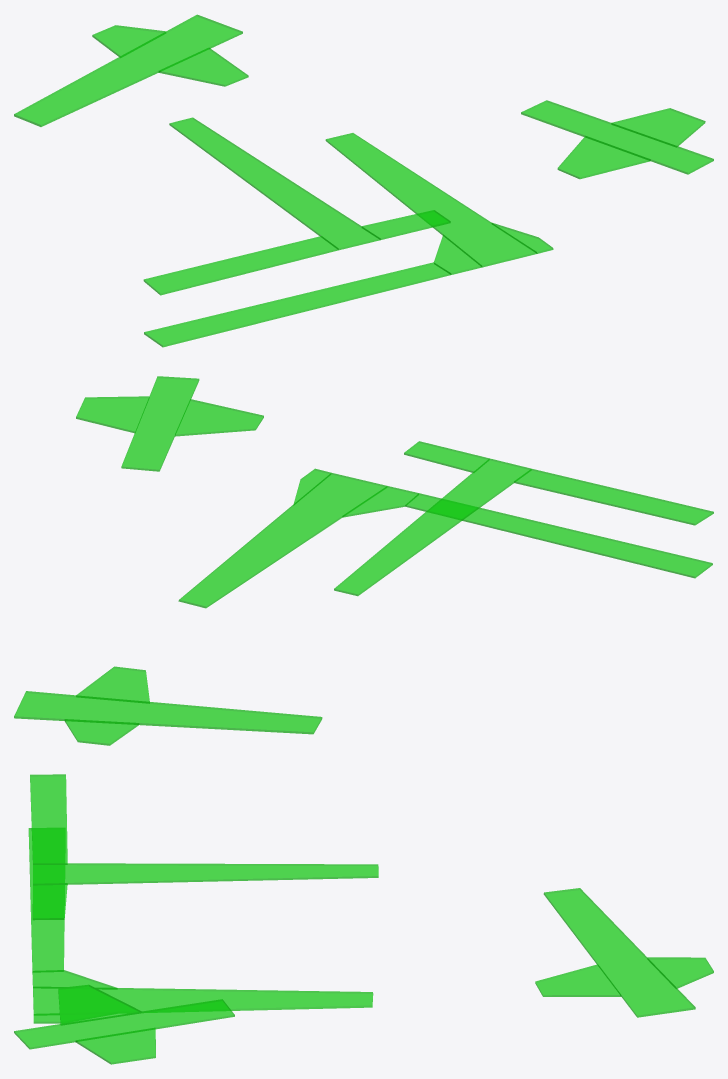
The model's file is parche_13_14v2.fbx.
The picture shows the model from 3 angles, top to bottom: view 1: azimuth 30°, elevation 25°; view 2: azimuth 150°, elevation 25°; view 3: azimuth 270°, elevation 25°; orthographic projection.
Parts seen in each view (by area): view 1: Colliders_2409, Colliders_1068, Colliders_2543, Colliders_897, Colliders_129, Colliders_890, Colliders_59, Colliders_2023, Colliders_970, Colliders_2279, Colliders_1211, Colliders_3417 (+1 smaller); view 2: Colliders_2409, Colliders_1068, Colliders_2543, Colliders_897, Colliders_129, Colliders_890, Colliders_59, Colliders_2023, Colliders_970, Colliders_1211, Colliders_2279, Colliders_3417; view 3: Colliders_2409, Colliders_1068, Colliders_2543, Colliders_897, Colliders_129, Colliders_890, Colliders_59, Colliders_2023, Colliders_970, Colliders_1211, Colliders_2279, Colliders_3417 (+1 smaller).
Part boxes in pixels (box(x1,y1,x2,y2)): Colliders_2409: box(325, 133, 537, 267); Colliders_1068: box(14, 14, 242, 126); Colliders_2543: box(169, 117, 380, 250); Colliders_897: box(144, 262, 451, 347); Colliders_129: box(521, 100, 713, 174); Colliders_890: box(143, 236, 338, 295); Colliders_59: box(557, 135, 650, 179); Colliders_2023: box(611, 108, 705, 147); Colliders_970: box(158, 47, 248, 86); Colliders_2279: box(362, 210, 450, 239); Colliders_1211: box(92, 25, 165, 57); Colliders_3417: box(434, 234, 482, 274); Colliders_2409: box(178, 472, 386, 608); Colliders_1068: box(14, 691, 322, 734); Colliders_2543: box(334, 458, 531, 596); Colliders_897: box(405, 493, 712, 578); Colliders_129: box(121, 376, 199, 471); Colliders_890: box(514, 469, 713, 525); Colliders_59: box(175, 399, 263, 436); Colliders_2023: box(76, 396, 149, 433); Colliders_970: box(76, 666, 149, 703); Colliders_1211: box(64, 719, 139, 745); Colliders_2279: box(404, 441, 489, 472); Colliders_3417: box(342, 486, 418, 517); Colliders_2409: box(33, 986, 373, 1015); Colliders_1068: box(543, 888, 695, 1017); Colliders_2543: box(33, 863, 378, 885); Colliders_897: box(28, 828, 64, 972); Colliders_129: box(14, 999, 234, 1049); Colliders_890: box(30, 774, 67, 864); Colliders_59: box(58, 984, 141, 1024); Colliders_2023: box(75, 1027, 155, 1064); Colliders_970: box(535, 964, 621, 996); Colliders_1211: box(647, 957, 713, 988); Colliders_2279: box(32, 883, 67, 920); Colliders_3417: box(32, 970, 117, 989).
Bounding box in the file's own units: 15993 × 1434 × 16407.
